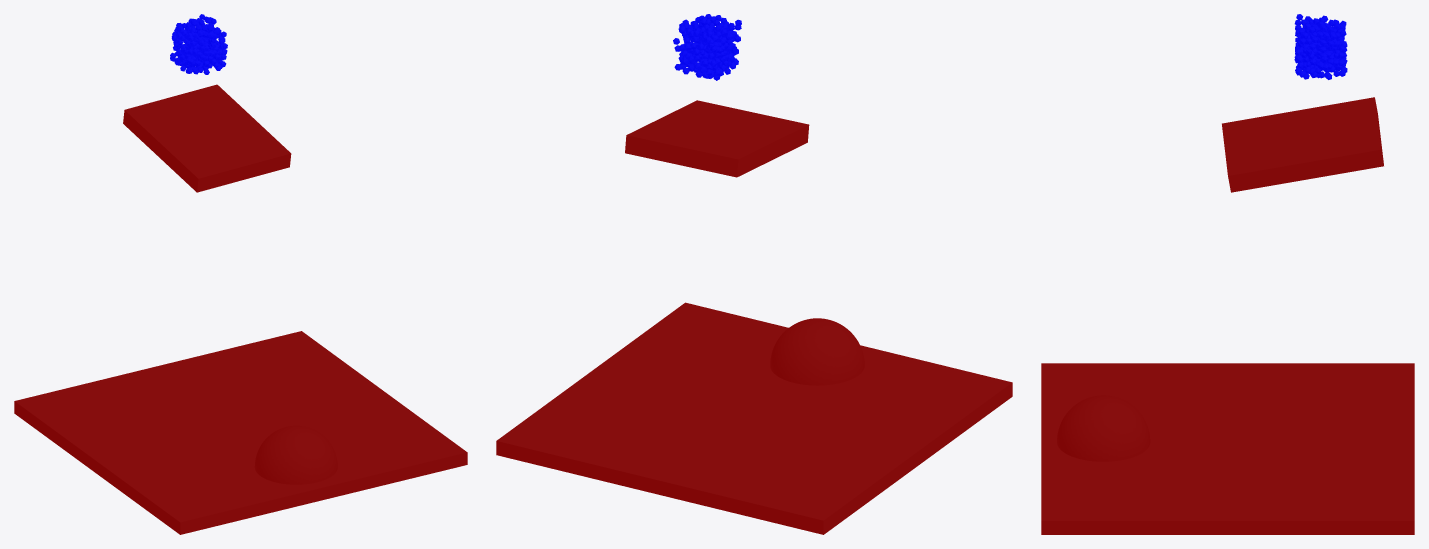
The model's file is waterfall1.glb.
3 renders of one model, left to right at view 1: azimuth 30°, elevation 25°; view 2: azimuth 150°, elevation 25°; view 3: azimuth 270°, elevation 25°, orthographic. The views are drawn at different scales.
Bounding box in the file's own units: 12 × 15.36 × 12.
